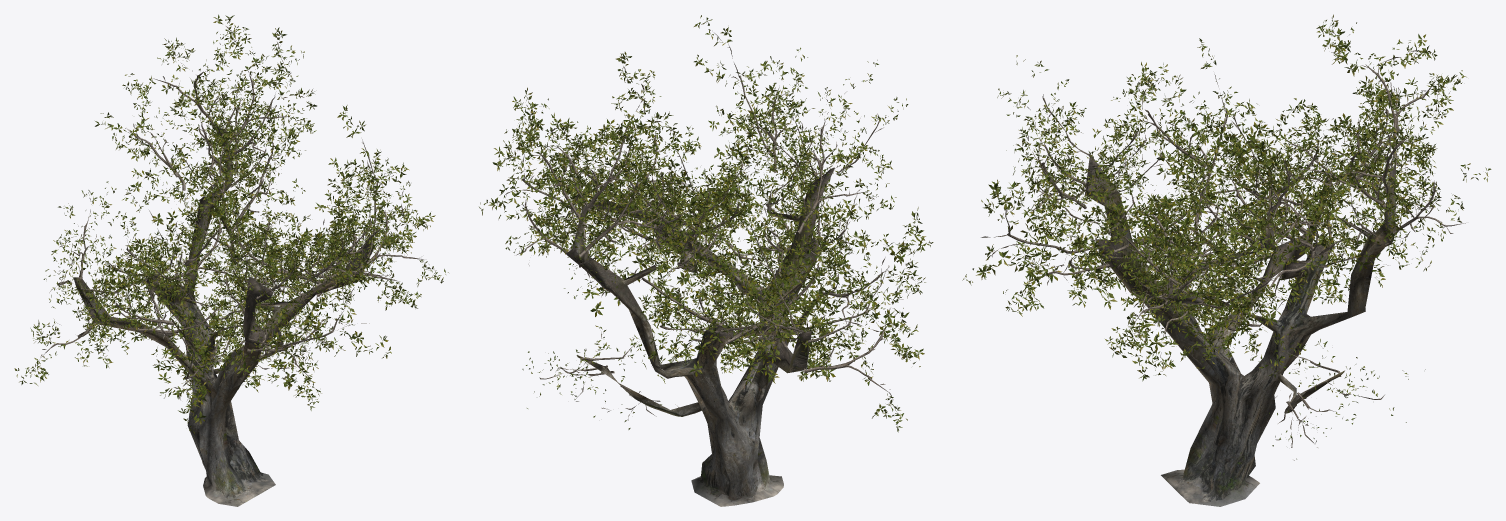
File: island_tree_01.glb
3 views of the same model, side by side, from view 1: azimuth 30°, elevation 25°; view 2: azimuth 150°, elevation 25°; view 3: azimuth 270°, elevation 25° (orthographic). The views are drawn at different scales.
Parts seen in each view (by area): view 1: island_tree_01_LOD0; view 2: island_tree_01_LOD0; view 3: island_tree_01_LOD0.
Boxes of the visible parts, x1,y1,x2,y2 form: island_tree_01_LOD0: (14, 14, 448, 506); island_tree_01_LOD0: (479, 15, 933, 506); island_tree_01_LOD0: (962, 14, 1491, 506).
Bounding box in the file's own units: 4.74 × 5.02 × 4.81.
Materials: 3 (3 with a texture image).
